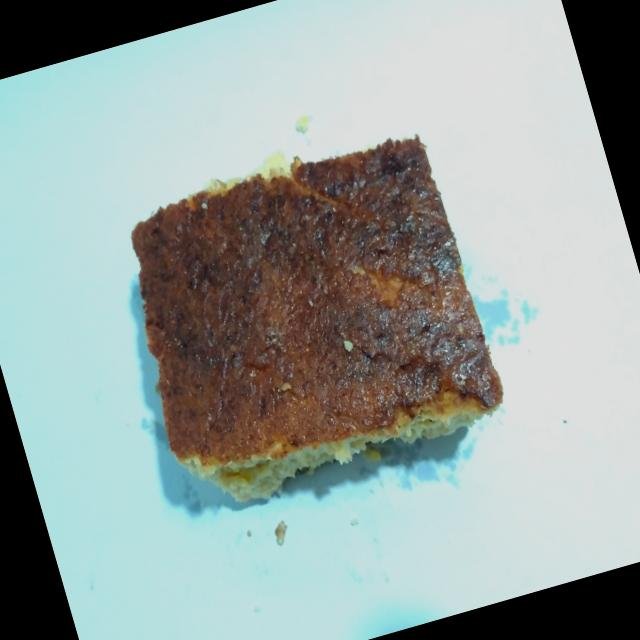Chipa_Guazu: (88, 106, 534, 537)
